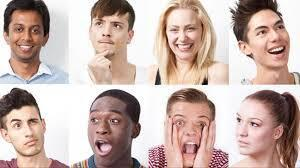feliz: (240, 14, 298, 74), (166, 10, 207, 62), (10, 11, 45, 63)
surpreso: (83, 91, 138, 167), (166, 100, 220, 167)
